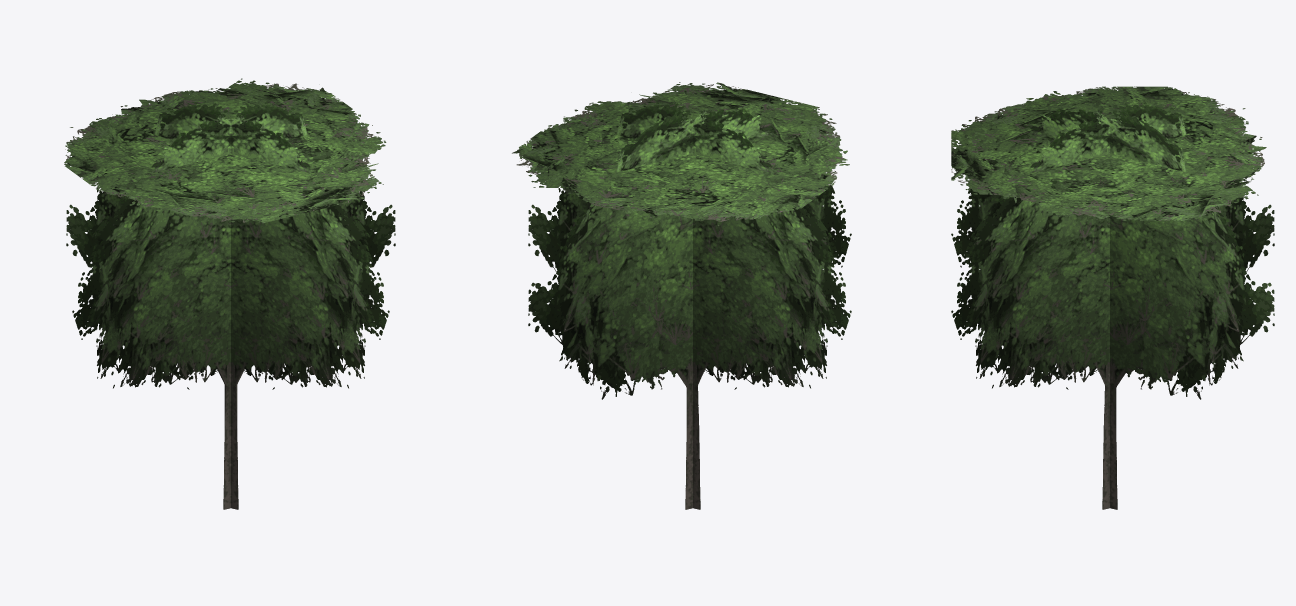
Rendered from tree_street_lod1.glb.
3 views of the same model, side by side, from view 1: azimuth 30°, elevation 25°; view 2: azimuth 150°, elevation 25°; view 3: azimuth 270°, elevation 25° (orthographic).
Parts seen in each view (by area): view 1: tree_street_lod1; view 2: tree_street_lod1; view 3: tree_street_lod1.
Boxes of the visible parts, x1=… form: tree_street_lod1: x1=64, y1=78, x2=395, y2=509; tree_street_lod1: x1=512, y1=82, x2=851, y2=509; tree_street_lod1: x1=951, y1=86, x2=1274, y2=509.
Size of the model in its own units: 7.93 by 9.06 by 6.87.
Materials: 1 (1 with a texture image).
